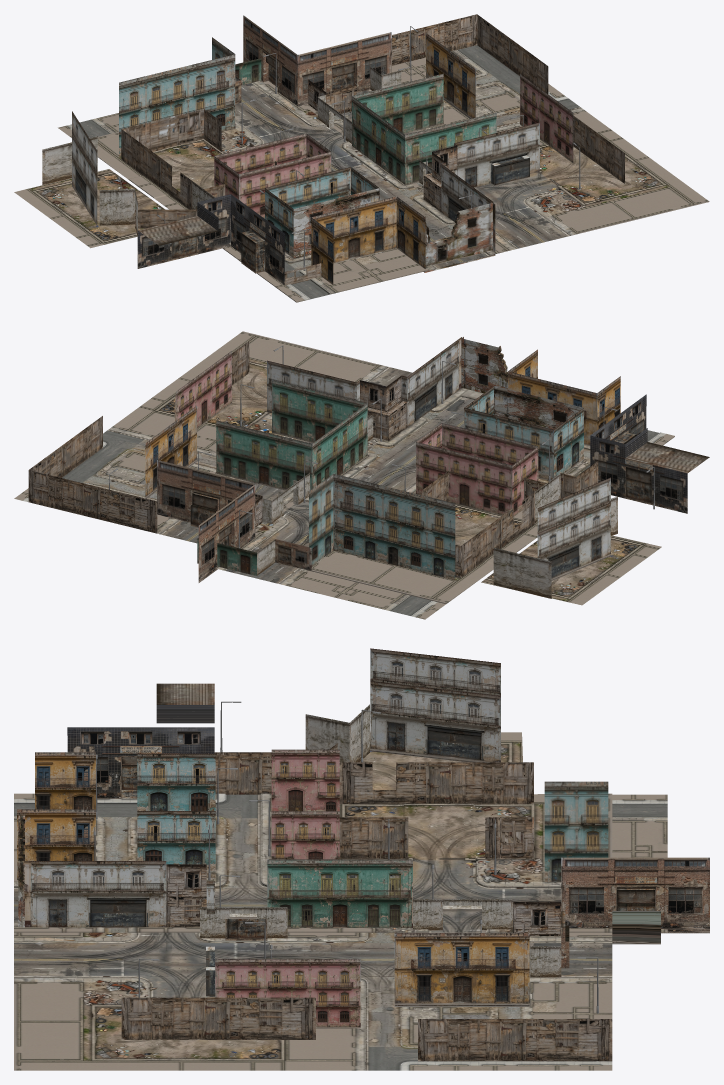
The model's file is havana.glb.
3 views of the same model, one above another, from view 1: azimuth 30°, elevation 25°; view 2: azimuth 150°, elevation 25°; view 3: azimuth 270°, elevation 25° (orthographic). The views are drawn at different scales.
Visible parts, largest first — view 1: tile_-1_-1, tile_0_-1, tile_-1_0, tile_0_0, tile_-1_-2, tile_-2_0, tile_flat_-1_0; view 2: tile_-1_-1, tile_0_-1, tile_-1_0, tile_0_0, tile_-2_0, tile_-1_-2, tile_flat_-1_0; view 3: tile_-1_-1, tile_0_-1, tile_0_0, tile_-2_0, tile_-1_0, tile_flat_-1_0, tile_-1_-2.
Boxes of the visible parts, x1,y1,x2,y2 form: tile_-1_-1: (14, 14, 709, 302); tile_0_-1: (235, 58, 580, 223); tile_-1_0: (42, 37, 401, 236); tile_0_0: (235, 15, 475, 173); tile_-1_-2: (293, 188, 495, 272); tile_-2_0: (72, 111, 121, 225); tile_flat_-1_0: (58, 80, 277, 137); tile_-1_-1: (14, 331, 709, 605); tile_0_-1: (176, 337, 461, 575); tile_-1_0: (262, 464, 617, 598); tile_0_0: (109, 406, 317, 582); tile_-2_0: (537, 477, 610, 580); tile_-1_-2: (461, 337, 583, 429); tile_flat_-1_0: (215, 562, 445, 619); tile_-1_-1: (14, 683, 612, 1070); tile_0_-1: (23, 859, 412, 1028); tile_0_0: (225, 857, 709, 1013); tile_-2_0: (361, 648, 500, 762); tile_-1_0: (305, 704, 608, 977); tile_flat_-1_0: (612, 794, 667, 932); tile_-1_-2: (18, 815, 24, 927).
Size of the model in its own units: 78.87 by 11.42 by 68.11.
Materials: 39 (37 with a texture image).
